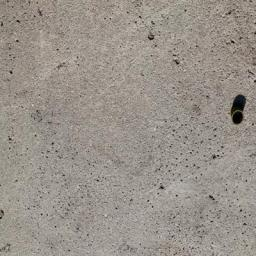FOD: (226, 92, 249, 129)
